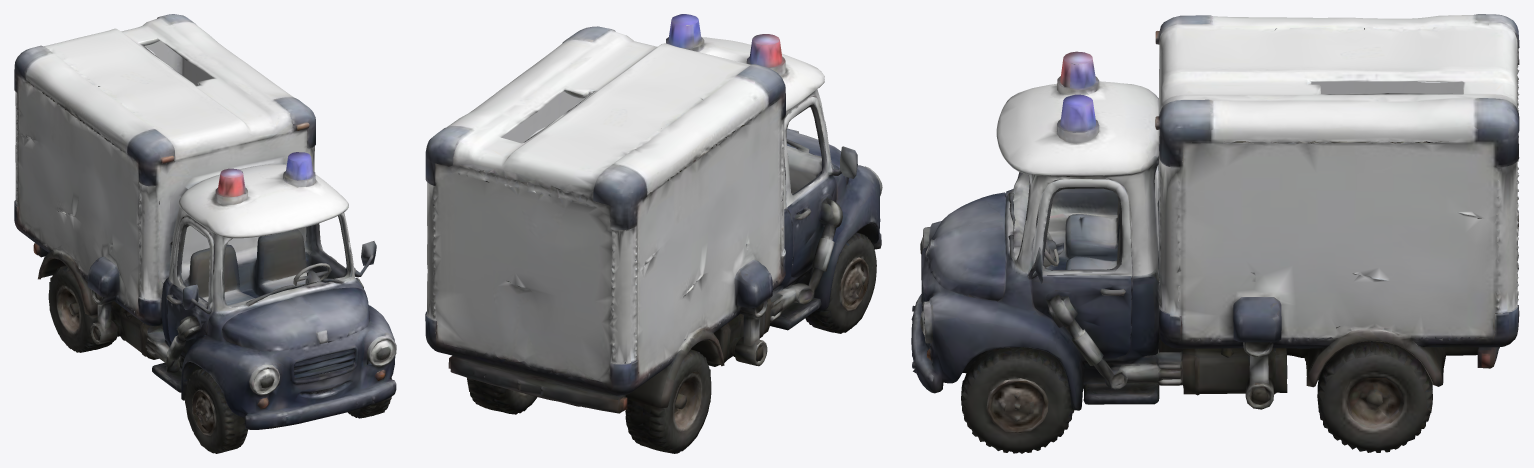
The model's file is van_policia.glb.
3 views of the same model, side by side, from view 1: azimuth 30°, elevation 25°; view 2: azimuth 150°, elevation 25°; view 3: azimuth 270°, elevation 25° (orthographic). The views are drawn at different scales.
Visible parts, largest first — view 1: van_policia; view 2: van_policia; view 3: van_policia.
Part boxes in pixels (x1=…): van_policia: x1=14, y1=14, x2=396, y2=453; van_policia: x1=425, y1=14, x2=882, y2=453; van_policia: x1=911, y1=14, x2=1519, y2=453.
Bounding box in the file's own units: 2.77 × 3.42 × 5.5.
Materials: 1 (1 with a texture image).
